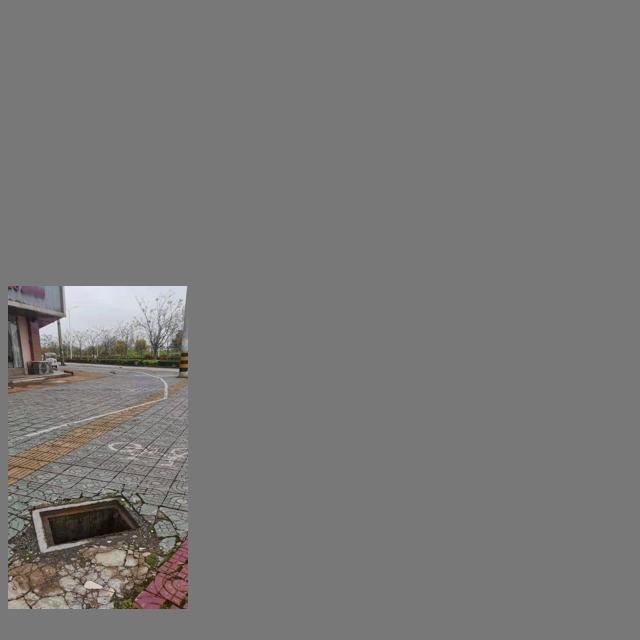lose: (31, 496, 150, 553)
